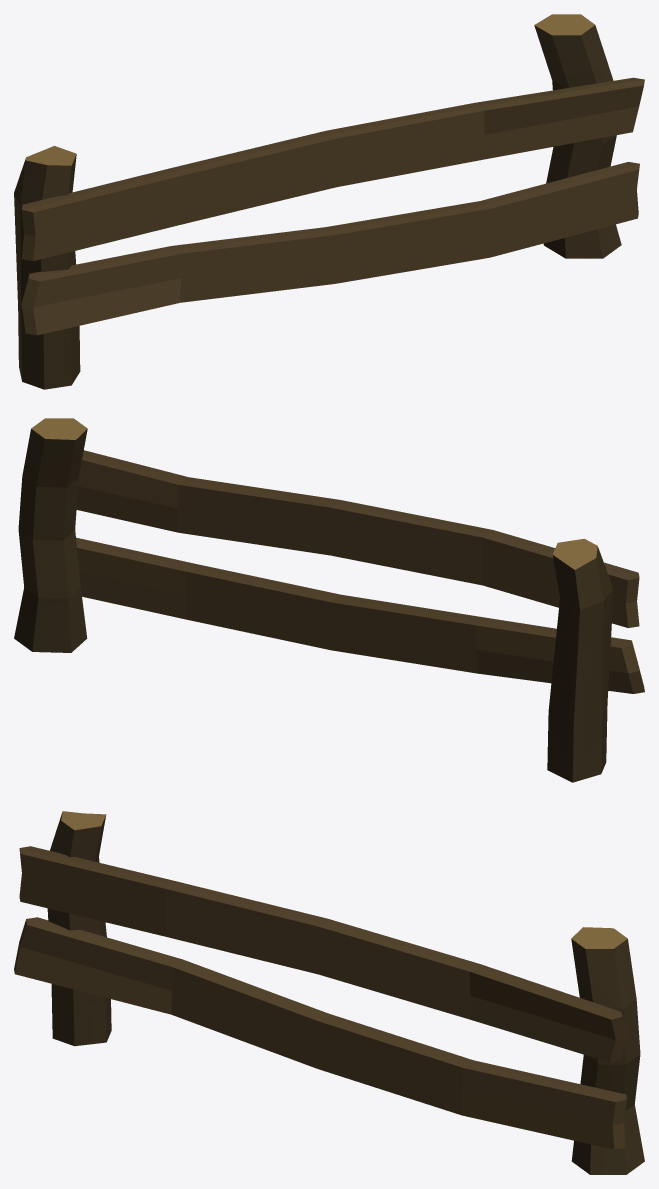
Rendered from Fence1.fbx.
The picture shows the model from 3 angles, top to bottom: view 1: azimuth 30°, elevation 25°; view 2: azimuth 150°, elevation 25°; view 3: azimuth 330°, elevation 25°; orthographic projection.
Parts seen in each view (by area): view 1: Cylinder; view 2: Cylinder; view 3: Cylinder.
Boxes of the visible parts, x1,y1,x2,y2 form: Cylinder: [14, 14, 644, 389]; Cylinder: [14, 418, 644, 782]; Cylinder: [14, 811, 644, 1174].
Bounding box in the file's own units: 275 × 93.76 × 36.36.
